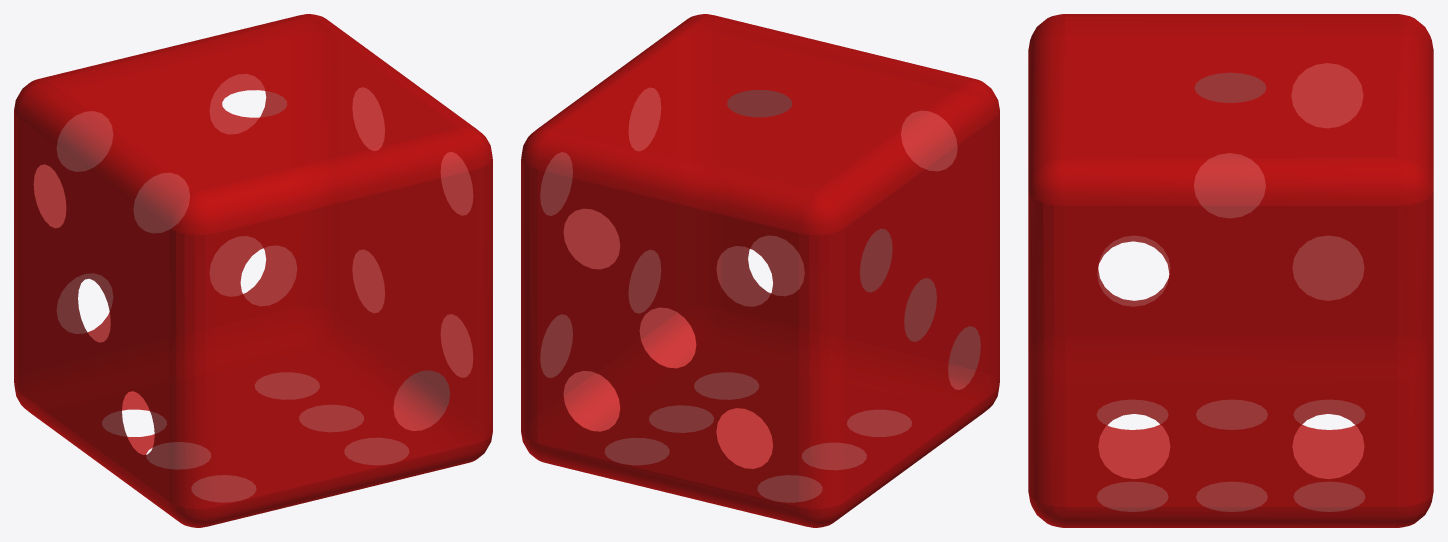
File: d6_pipped_square_lowpoly.fbx
3 renders of one model, left to right at view 1: azimuth 30°, elevation 25°; view 2: azimuth 150°, elevation 25°; view 3: azimuth 270°, elevation 25°, orthographic. The views are drawn at different scales.
Visible parts, largest first — view 1: 6_Sided_Do; view 2: 6_Sided_Do; view 3: 6_Sided_Do.
Boxes of the visible parts, box(x1,y1,x2,y2) form: 6_Sided_Do: box(14, 14, 492, 527); 6_Sided_Do: box(521, 14, 999, 527); 6_Sided_Do: box(1028, 14, 1433, 527).
Bounding box in the file's own units: 8.34 × 8.34 × 8.34.
